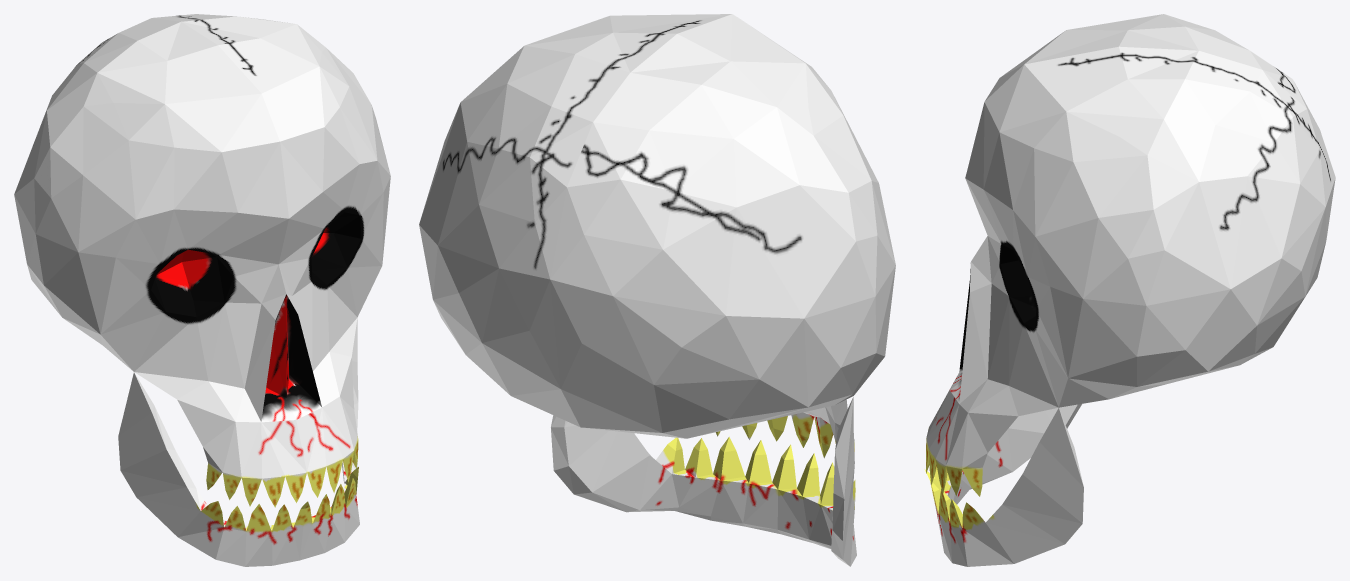
File: halloween_textured.dae
The picture shows the model from 3 angles, left to right: view 1: azimuth 30°, elevation 25°; view 2: azimuth 150°, elevation 25°; view 3: azimuth 270°, elevation 25°; orthographic projection. The views are drawn at different scales.
Visible parts, largest first — view 1: Plane; view 2: Plane; view 3: Plane.
Boxes of the visible parts, x1,y1,x2,y2 form: Plane: (14,14,390,566); Plane: (419,14,895,566); Plane: (924,14,1335,566).
Bounding box in the file's own units: 5.78 × 5.61 × 7.41.
Materials: 1 (1 with a texture image).
